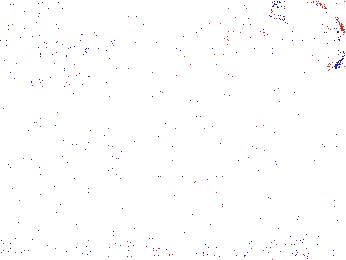moon jellyfish: (226, 22, 302, 107), (269, 1, 346, 70), (53, 99, 134, 162), (52, 39, 144, 93), (1, 1, 39, 73)
